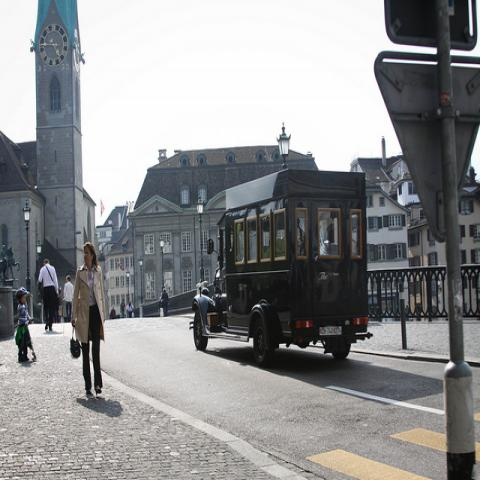bus: (191, 168, 374, 367)
